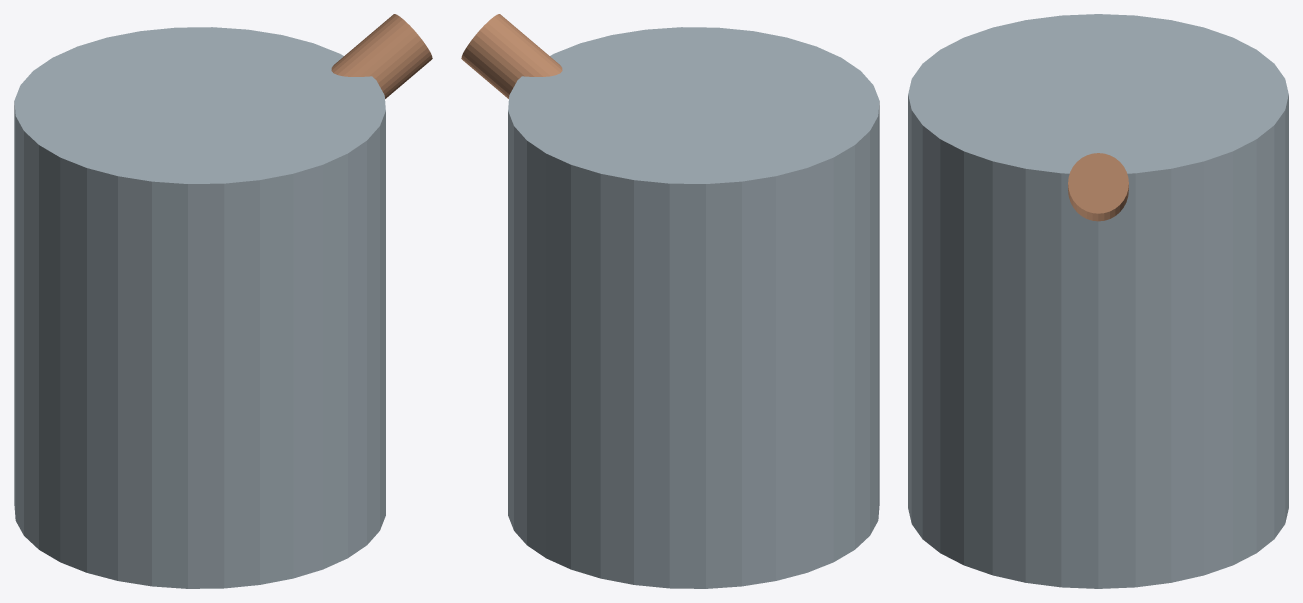
File: water-filter-station.glb
3 renders of one model, left to right at view 1: azimuth 30°, elevation 25°; view 2: azimuth 150°, elevation 25°; view 3: azimuth 270°, elevation 25°, orthographic. The views are drawn at different scales.
Visible parts, largest first — view 1: WaterFilter_Drum, WaterFilter_Spout; view 2: WaterFilter_Drum, WaterFilter_Spout; view 3: WaterFilter_Drum, WaterFilter_Spout.
Part boxes in pixels (x1,y1,x2,y2): WaterFilter_Drum: (14,27,385,588); WaterFilter_Spout: (331,14,432,98); WaterFilter_Drum: (508,27,879,588); WaterFilter_Spout: (461,14,562,98); WaterFilter_Drum: (908,14,1288,588); WaterFilter_Spout: (1068,153,1128,221).
Bounding box in the file's own units: 1.2 × 1.32 × 1.
